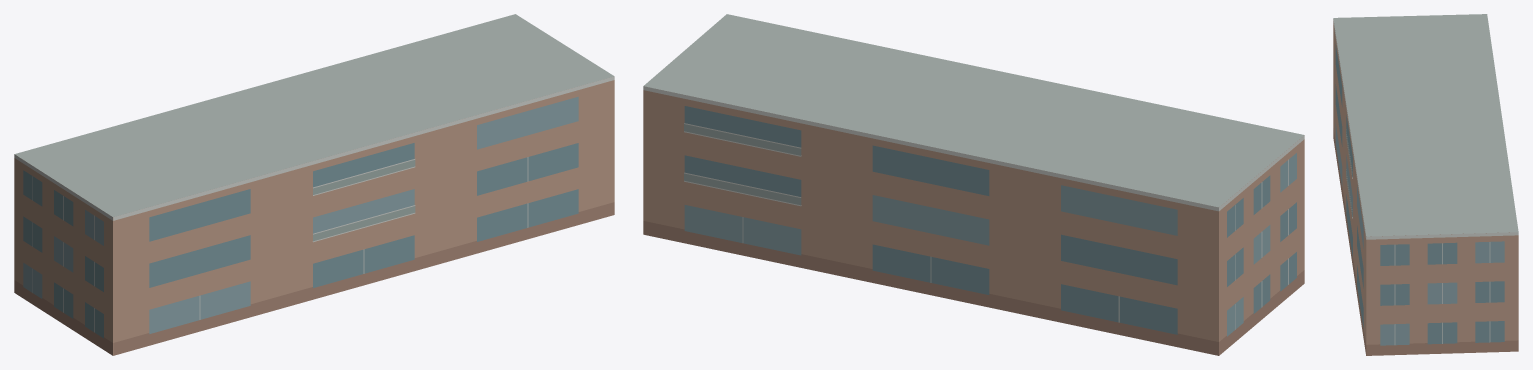
Rendered from survey-upis-32726748.glb.
3 views of the same model, side by side, from view 1: azimuth 30°, elevation 25°; view 2: azimuth 150°, elevation 25°; view 3: azimuth 270°, elevation 25° (orthographic). The views are drawn at different scales.
Parts seen in each view (by area): view 1: survey-upis-32726748.tmp; view 2: survey-upis-32726748.tmp; view 3: survey-upis-32726748.tmp.
Part boxes in pixels (x1=…): survey-upis-32726748.tmp: x1=14, y1=14, x2=614, y2=355; survey-upis-32726748.tmp: x1=643, y1=14, x2=1304, y2=355; survey-upis-32726748.tmp: x1=1333, y1=14, x2=1518, y2=355.
Bounding box in the file's own units: 36.61 × 9.15 × 12.89.
